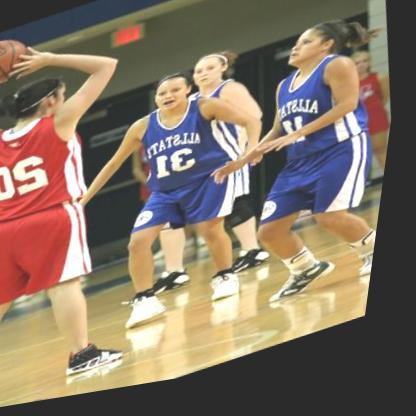basketball: (0, 29, 37, 92)
